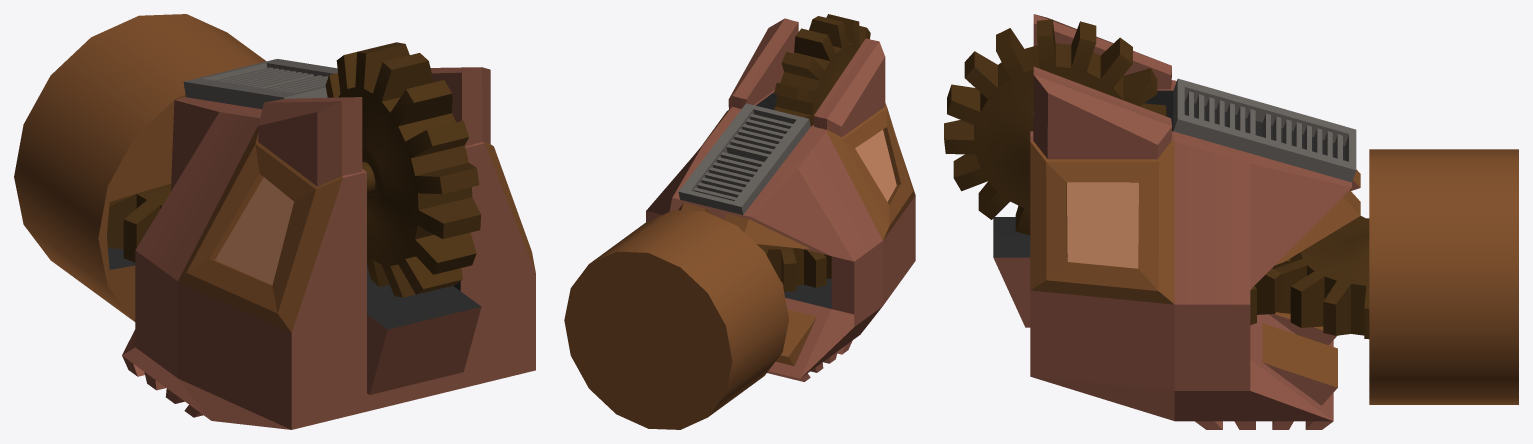
Rendered from Heup Poot Links voor.fbx.
3 views of the same model, side by side, from view 1: azimuth 30°, elevation 25°; view 2: azimuth 150°, elevation 25°; view 3: azimuth 270°, elevation 25° (orthographic). The views are drawn at different scales.
Parts seen in each view (by area): view 1: Tandwiel.008; view 2: Tandwiel.008; view 3: Tandwiel.008.
Part boxes in pixels (x1,y1,x2,y2): Tandwiel.008: (14,14,535,429); Tandwiel.008: (564,14,915,429); Tandwiel.008: (944,14,1518,429).
Bounding box in the file's own units: 635 × 804 × 1145.
